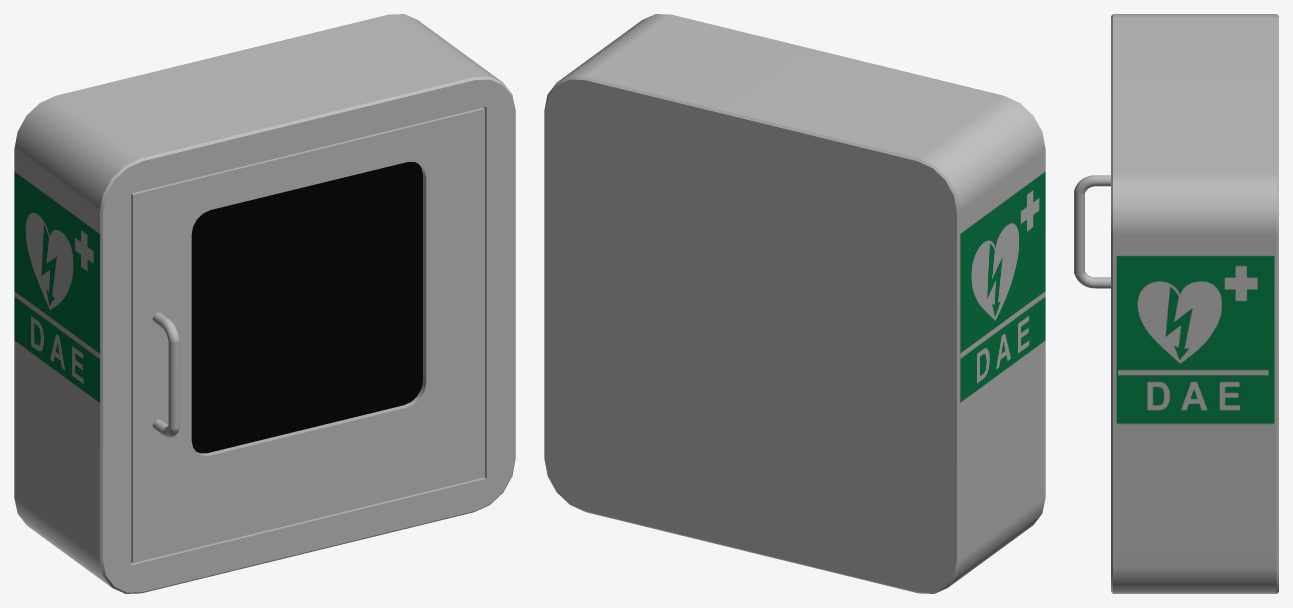
Rendered from defibrillator_low_poly.glb.
The picture shows the model from 3 angles, left to right: view 1: azimuth 30°, elevation 25°; view 2: azimuth 150°, elevation 25°; view 3: azimuth 270°, elevation 25°; orthographic projection. The views are drawn at different scales.
Visible parts, largest first — view 1: AED_DEF_0; view 2: AED_DEF_0; view 3: AED_DEF_0.
Boxes of the visible parts, <box> form: AED_DEF_0: <box>14,14,515,593</box>; AED_DEF_0: <box>544,14,1045,593</box>; AED_DEF_0: <box>1074,14,1278,593</box>.
Size of the model in its own units: 0.531 by 0.531 by 0.2369.
3 materials, 1 textured.
